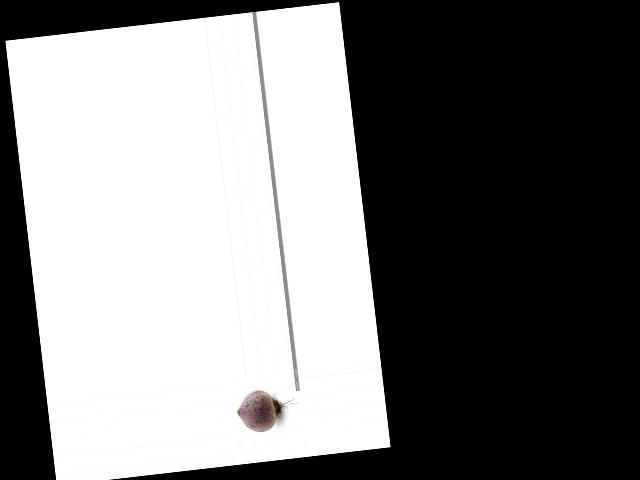beet: (234, 384, 302, 434)
